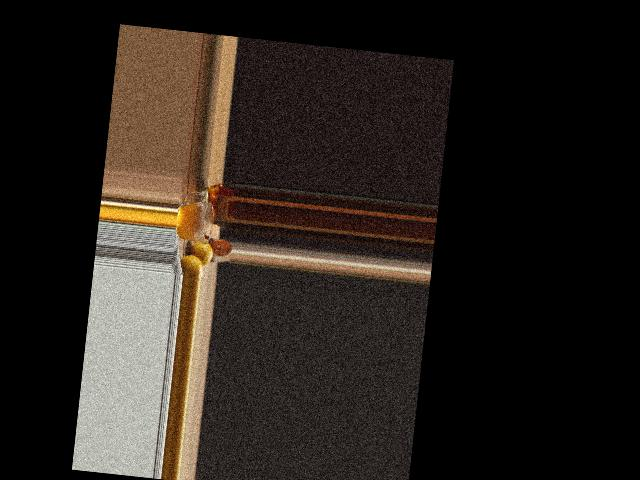lemon: (180, 256, 201, 276)
